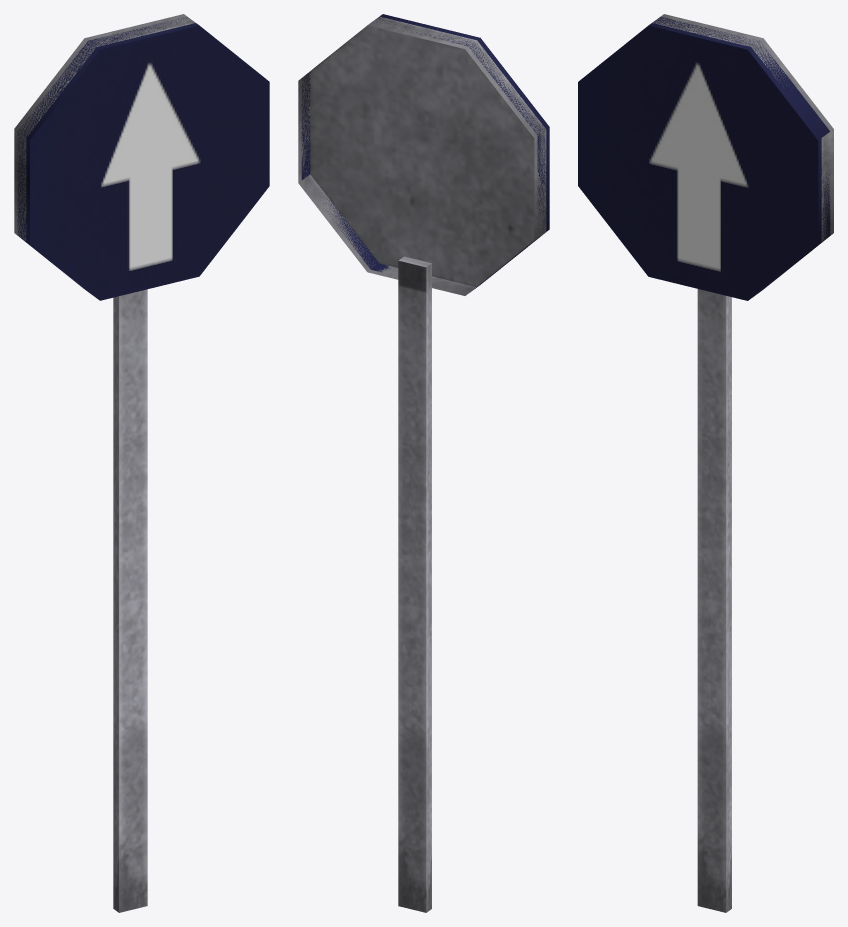
The model's file is signal4.FBX.
The picture shows the model from 3 angles, left to right: view 1: azimuth 30°, elevation 25°; view 2: azimuth 150°, elevation 25°; view 3: azimuth 330°, elevation 25°; orthographic projection.
Parts seen in each view (by area): view 1: prop_signal4_LOD0; view 2: prop_signal4_LOD0; view 3: prop_signal4_LOD0.
Part boxes in pixels (left/top/right/bottom): prop_signal4_LOD0: left=14, top=14, right=269, bottom=912; prop_signal4_LOD0: left=298, top=14, right=549, bottom=912; prop_signal4_LOD0: left=578, top=14, right=833, bottom=912.
Size of what is drawn, in the model's own units: 0.7653 by 2.69 by 0.1157.
